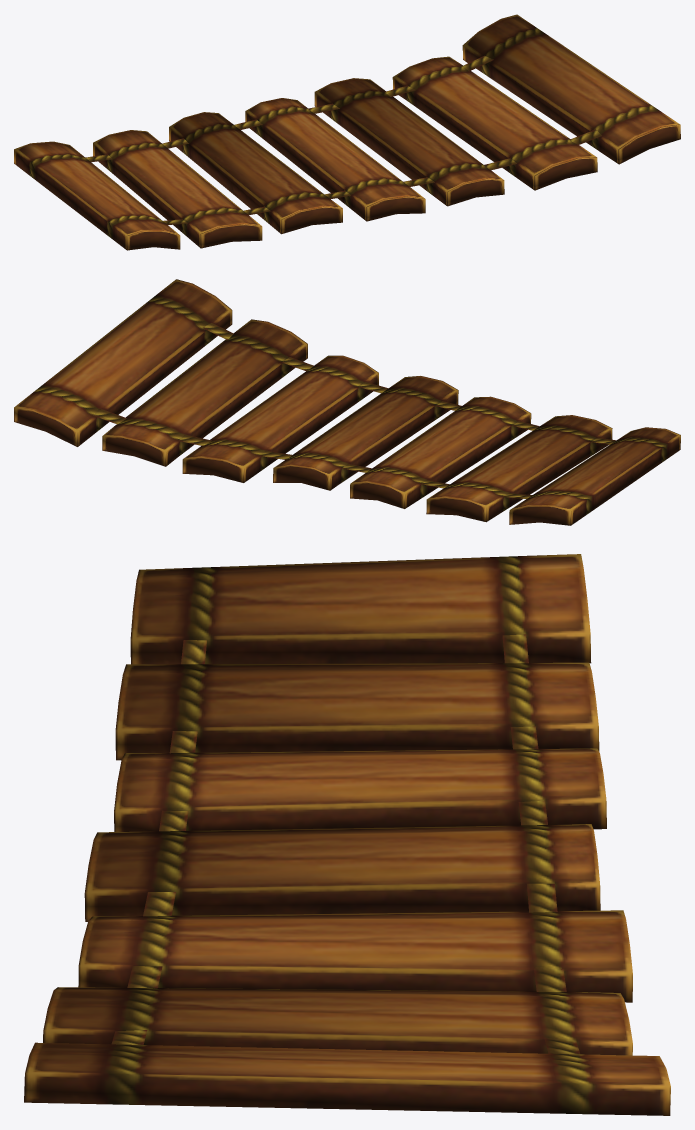
The model's file is H_Maze_muqiao01.FBX.
3 renders of one model, top to bottom at view 1: azimuth 30°, elevation 25°; view 2: azimuth 150°, elevation 25°; view 3: azimuth 270°, elevation 25°, orthographic. The views are drawn at different scales.
Parts seen in each view (by area): view 1: muqiao; view 2: muqiao; view 3: muqiao.
Boxes of the visible parts, box(x1,y1,x2,y2) form: muqiao: box(14, 14, 680, 250); muqiao: box(14, 279, 680, 525); muqiao: box(24, 554, 670, 1115).
Bounding box in the file's own units: 285 × 23.49 × 151.
